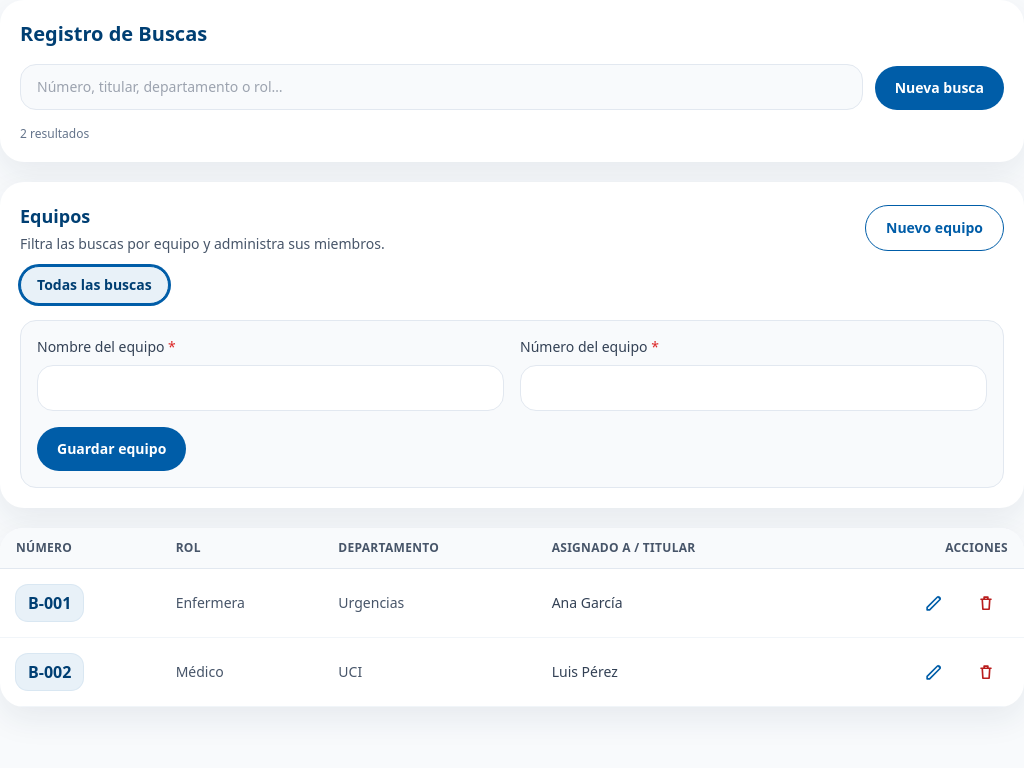
Test: BeepersPage › filters records by search query
Expected: the text "B-001" is shown, [16,585,83,621]
Type "UCI" into the search field named "Buscar buscas" at (441, 87), box [20,64,863,110]
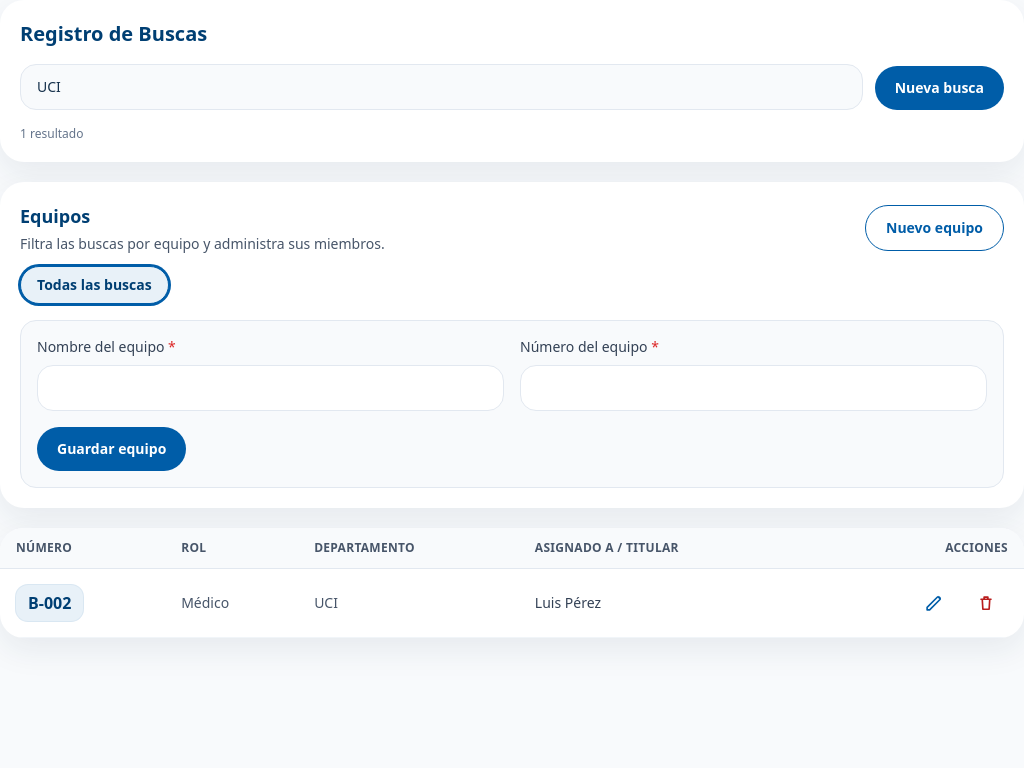
Expected: the text "B-002" is shown, [16,585,83,621]
Expected: the text "B-001" is gone
